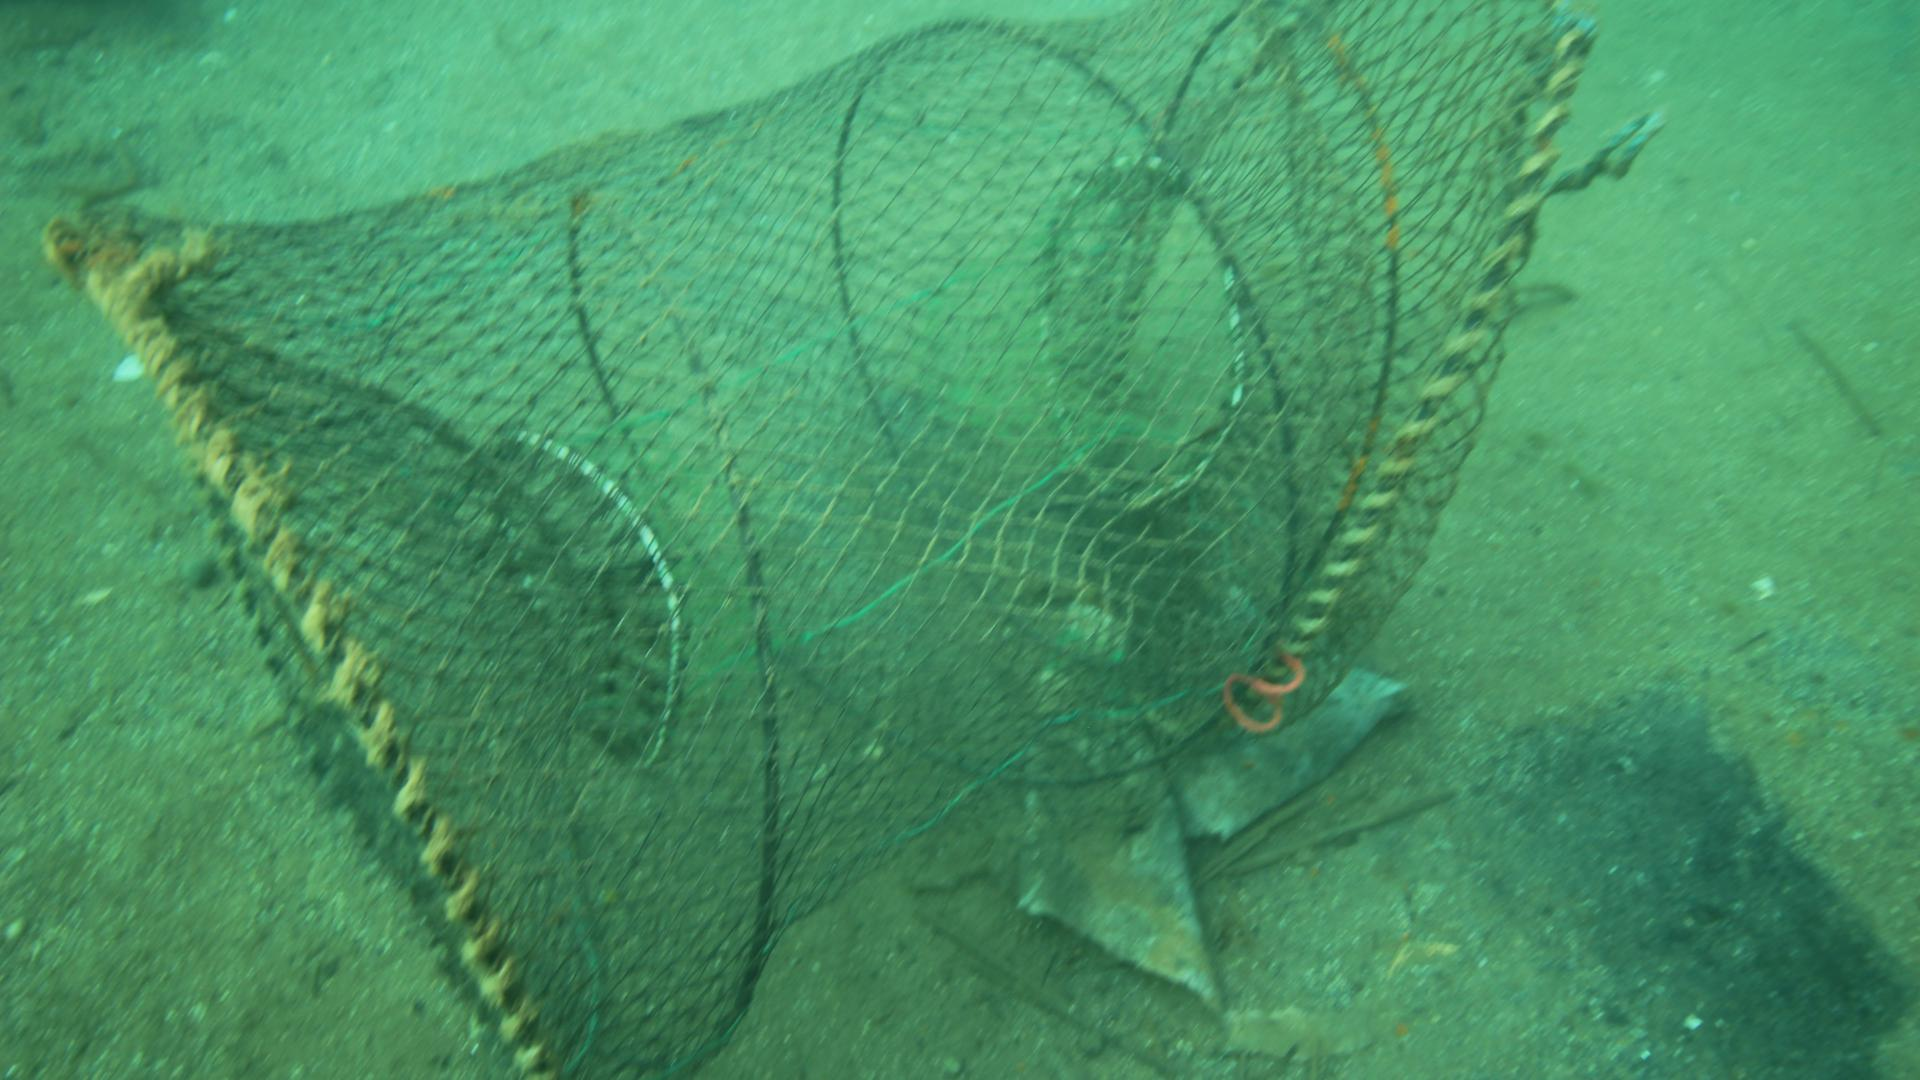rope: (1540, 102, 1677, 196)
spring fish trap: (36, 0, 1596, 1080)
